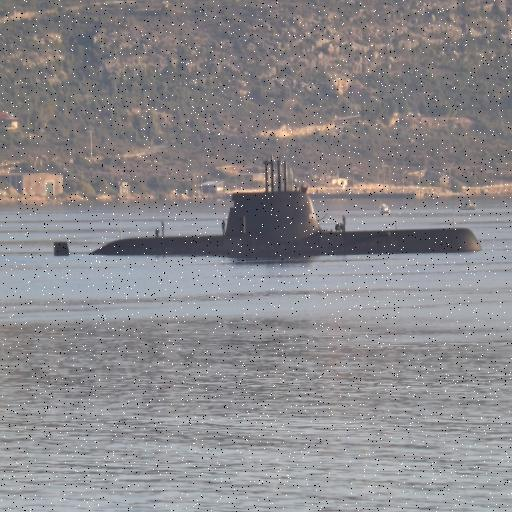submarine: (20, 149, 490, 249)
